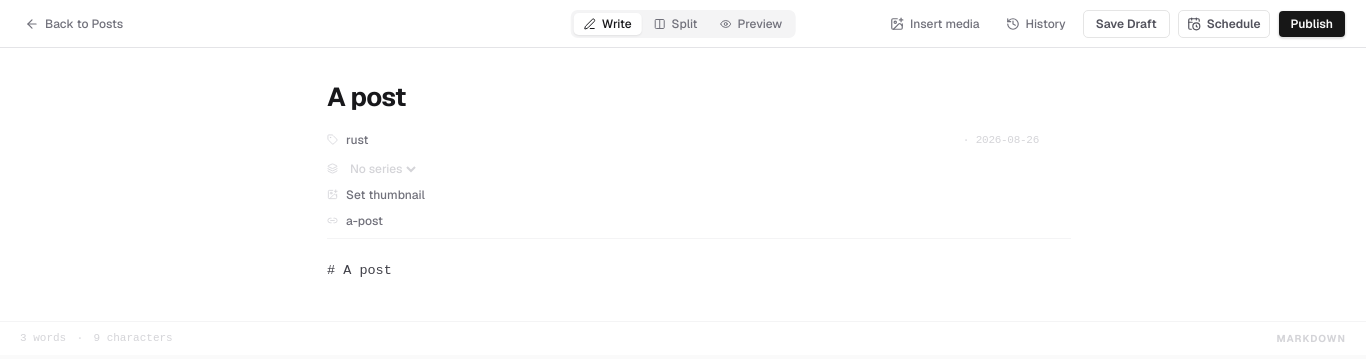
Scenario: the thumbnail control › reports a real failure
Step 1. Click the button "Set thumbnail" → (385, 195), box x1=346 y1=186 x2=425 y2=204
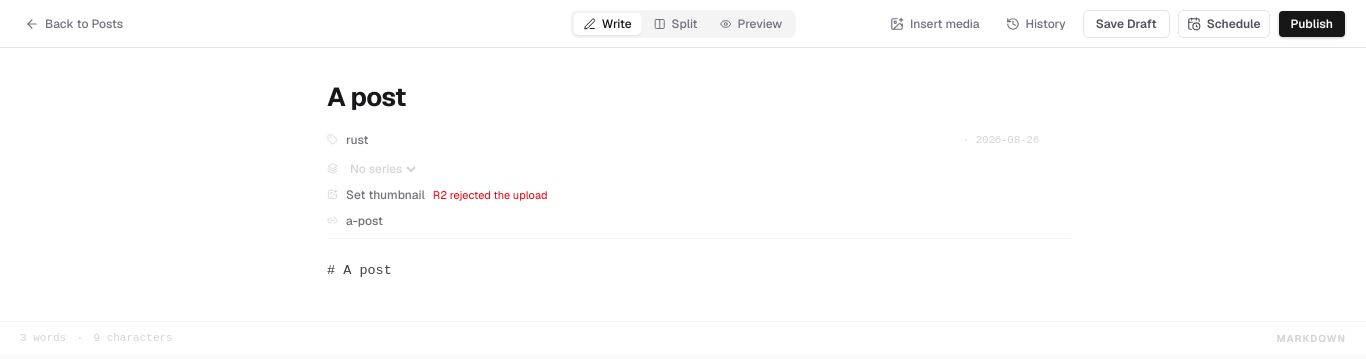
Check: the text "R2 rejected the upload" is shown, box x1=433 y1=186 x2=547 y2=203
